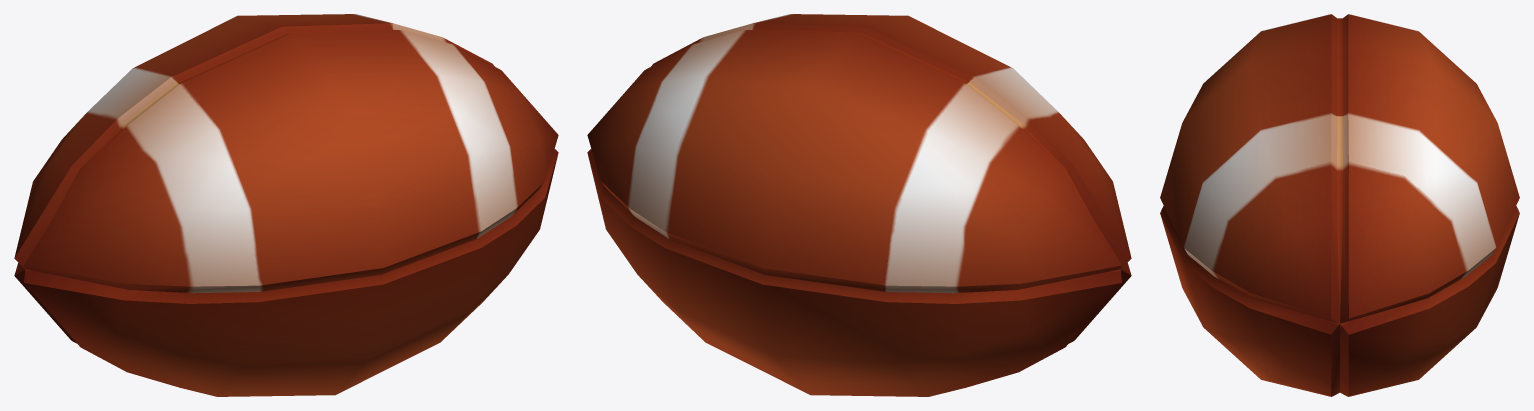
Rendered from TNP0110002.FBX.
The picture shows the model from 3 angles, left to right: view 1: azimuth 30°, elevation 25°; view 2: azimuth 150°, elevation 25°; view 3: azimuth 270°, elevation 25°; orthographic projection. The views are drawn at different scales.
Visible parts, largest first — view 1: smTNP0110002; view 2: smTNP0110002; view 3: smTNP0110002.
Boxes of the visible parts, x1=… form: smTNP0110002: x1=14, y1=14, x2=558, y2=396; smTNP0110002: x1=587, y1=14, x2=1131, y2=396; smTNP0110002: x1=1160, y1=14, x2=1519, y2=396.
Size of the model in its own units: 35.16 by 22.05 by 22.05.
Materials: 1 (1 with a texture image).
